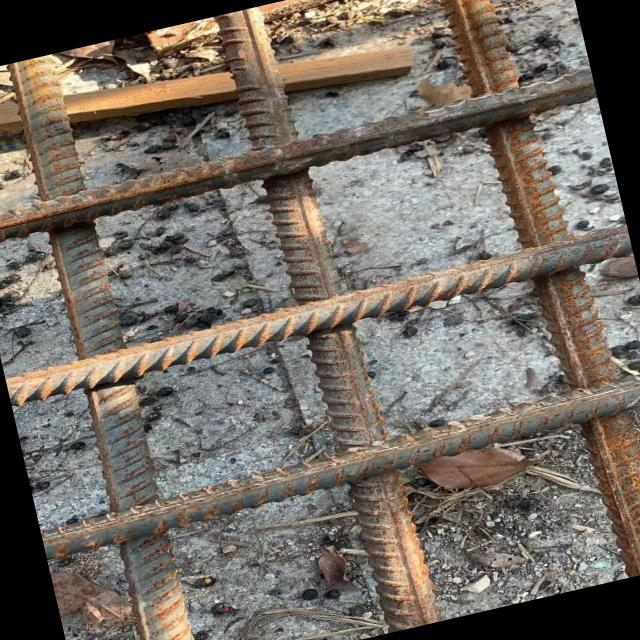ribbed bar: (207, 0, 443, 640), (429, 0, 640, 589), (35, 367, 640, 562), (2, 222, 634, 408), (3, 52, 202, 640), (0, 65, 598, 250)
